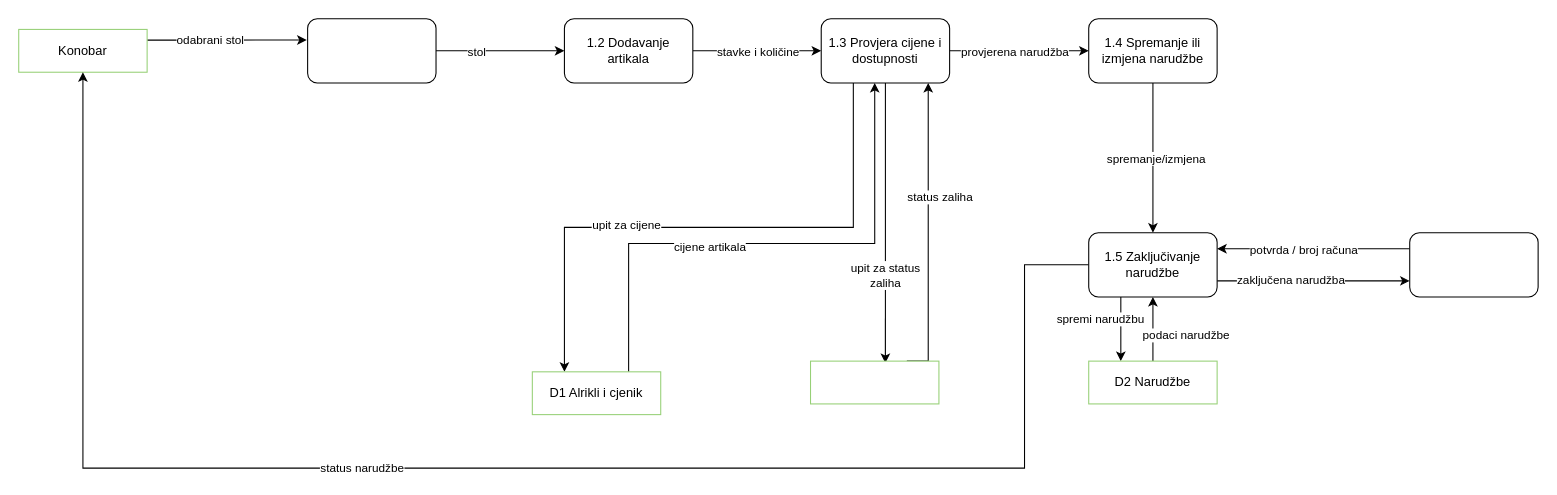
Image size: 1557x495. Some labels were removed from this diagram. Here are the shapes that lost their labels. From the top down, the centre of each, then its label:
At point (371, 50): "1.1 Odabir stola".
At point (1473, 264): "2.0 Izdavanje računa".
At point (874, 382): "D4 Zalihe".
